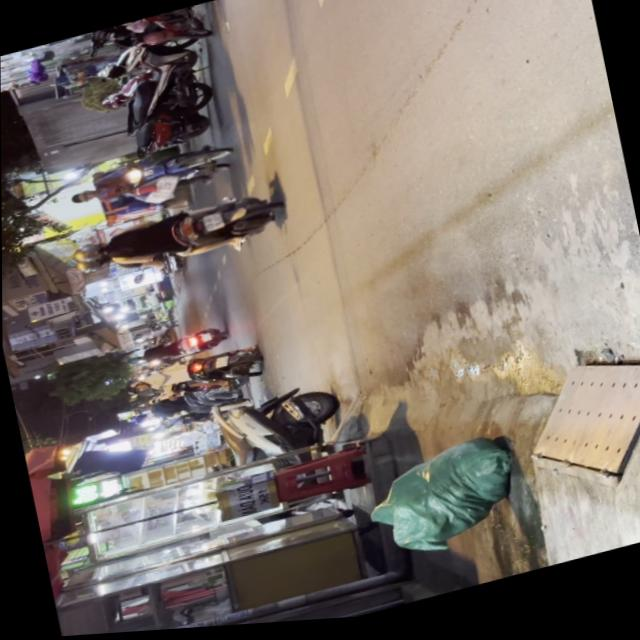helmet: (70, 241, 105, 265), (73, 255, 105, 275)
licenseplate: (65, 185, 285, 291), (61, 138, 240, 223)
motorcyclist: (65, 188, 95, 208)
nohelmet: (200, 214, 222, 235)
